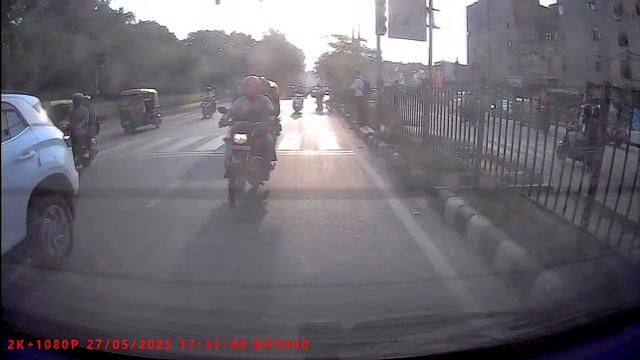motorcycle_with_helmet: (218, 72, 281, 209), (63, 90, 101, 171), (201, 84, 217, 119)
